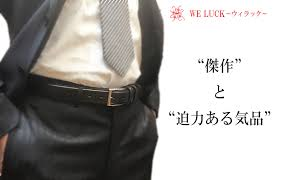F_belt: (13, 70, 154, 113)
